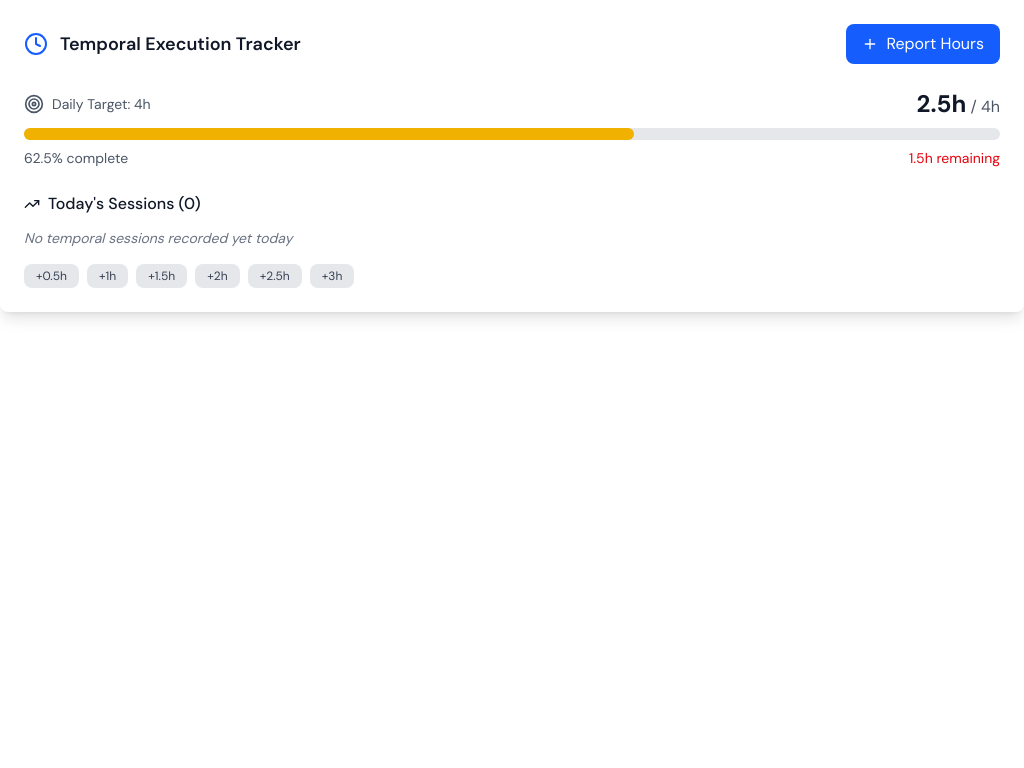
Test: TemporalTracker › should open report form when Report Hours button is clicked
Click the button "Report Hours": (923, 44) [846,24,1000,64]
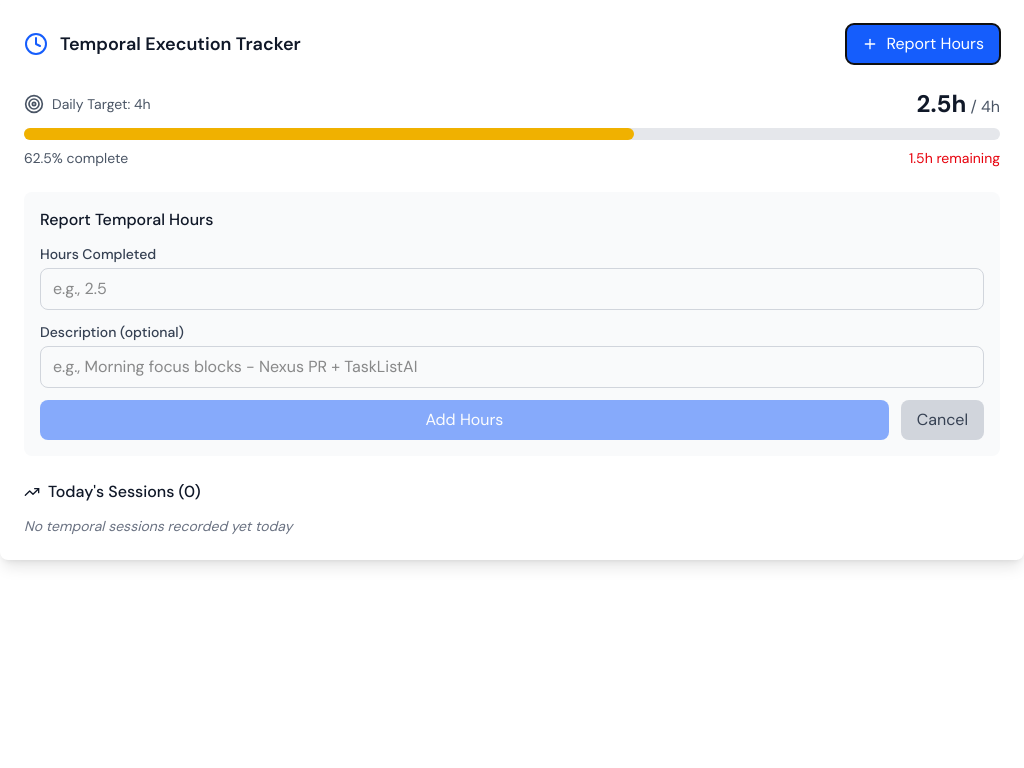
Now the heading "Report Temporal Hours" is shown, box [40,209,213,230]
Now the number field labelled "Hours Completed" is shown, box [40,268,984,310]
Now the field labelled "Description (optional)" is shown, box [40,346,984,388]
